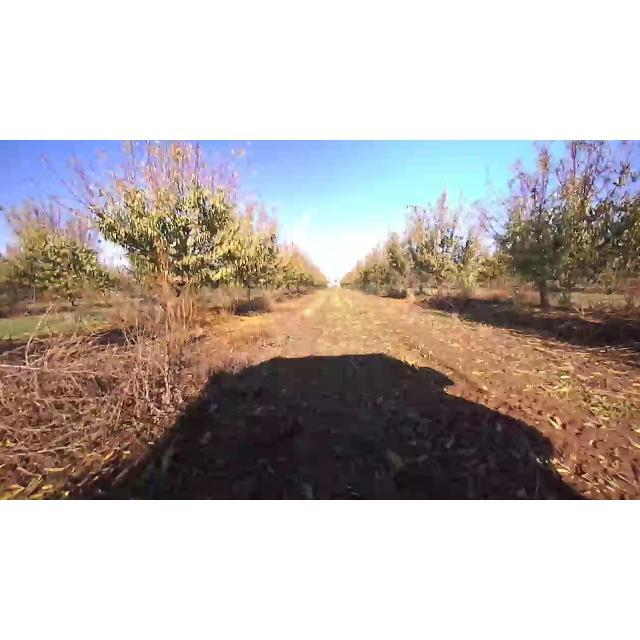direk: (84, 140, 252, 332), (476, 142, 640, 312), (4, 198, 120, 306), (403, 188, 487, 296), (226, 195, 286, 301), (378, 224, 418, 292)
